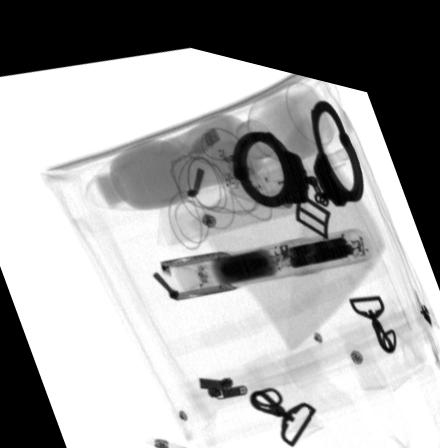Baton: (158, 208, 374, 293)
HandCuffs: (230, 81, 365, 193)
